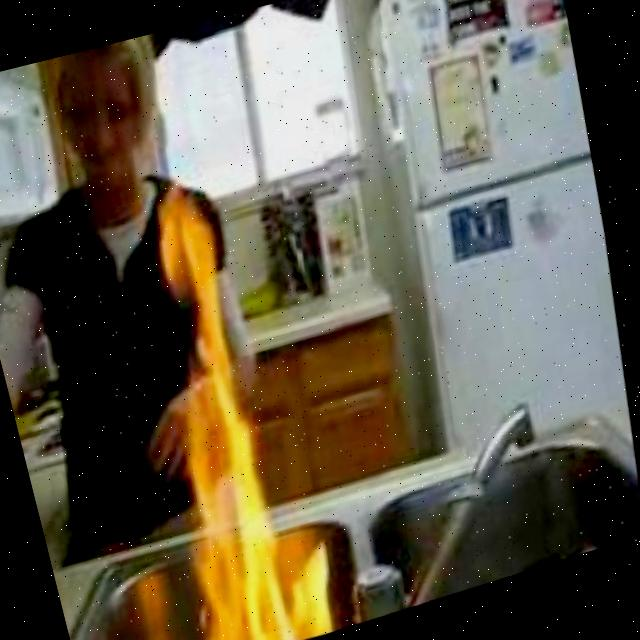fire: (88, 169, 394, 640)
